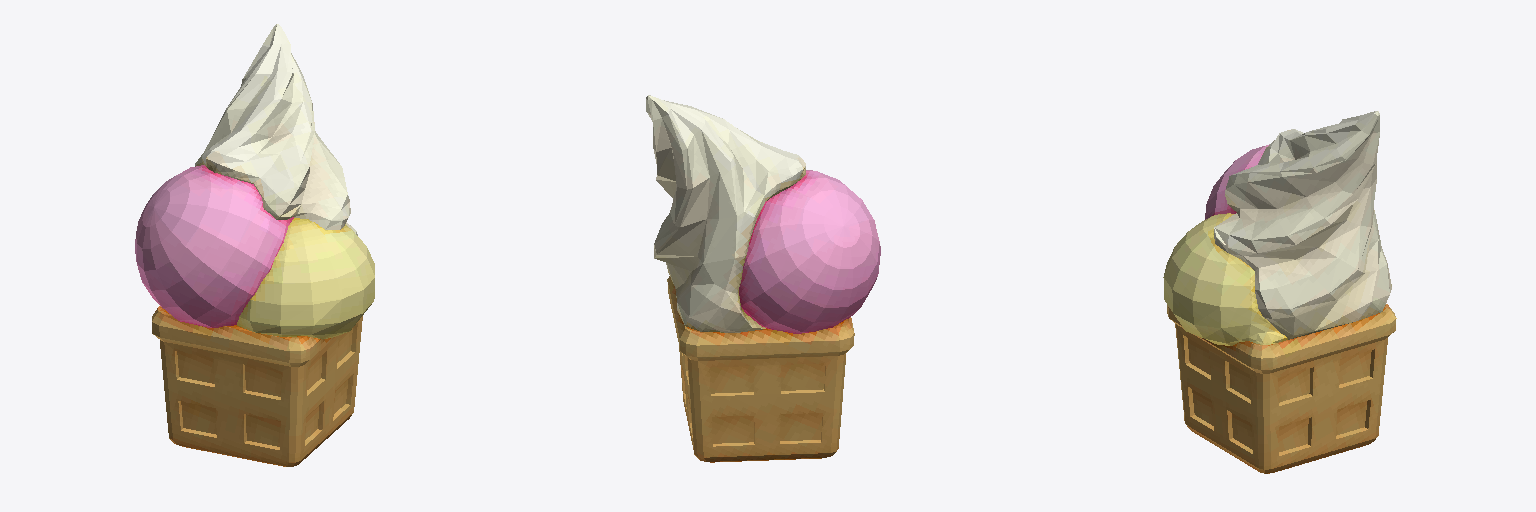
The picture shows the model from 3 angles: view 1: azimuth 30°, elevation 25°; view 2: azimuth 150°, elevation 25°; view 3: azimuth 270°, elevation 25°; orthographic projection.
Parts seen in each view (by area): view 1: Icecream; view 2: Icecream; view 3: Icecream.
Boxes of the visible parts, <box> form: Icecream: <box>135,24,374,466</box>; Icecream: <box>646,95,880,462</box>; Icecream: <box>1163,111,1396,473</box>.
Bounding box in the file's own units: 0.1492 × 0.2414 × 0.1423.
Materials: 1 (1 with a texture image).